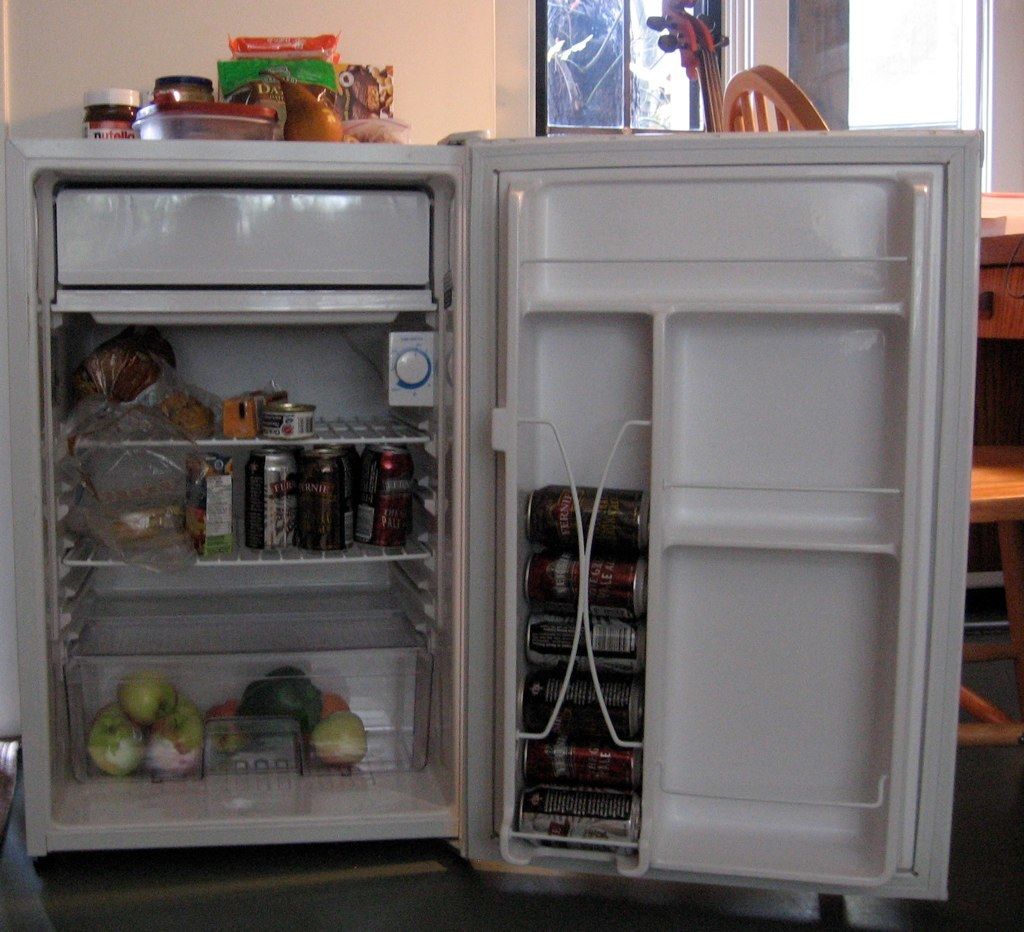refrigerator door: (494, 159, 943, 863)
